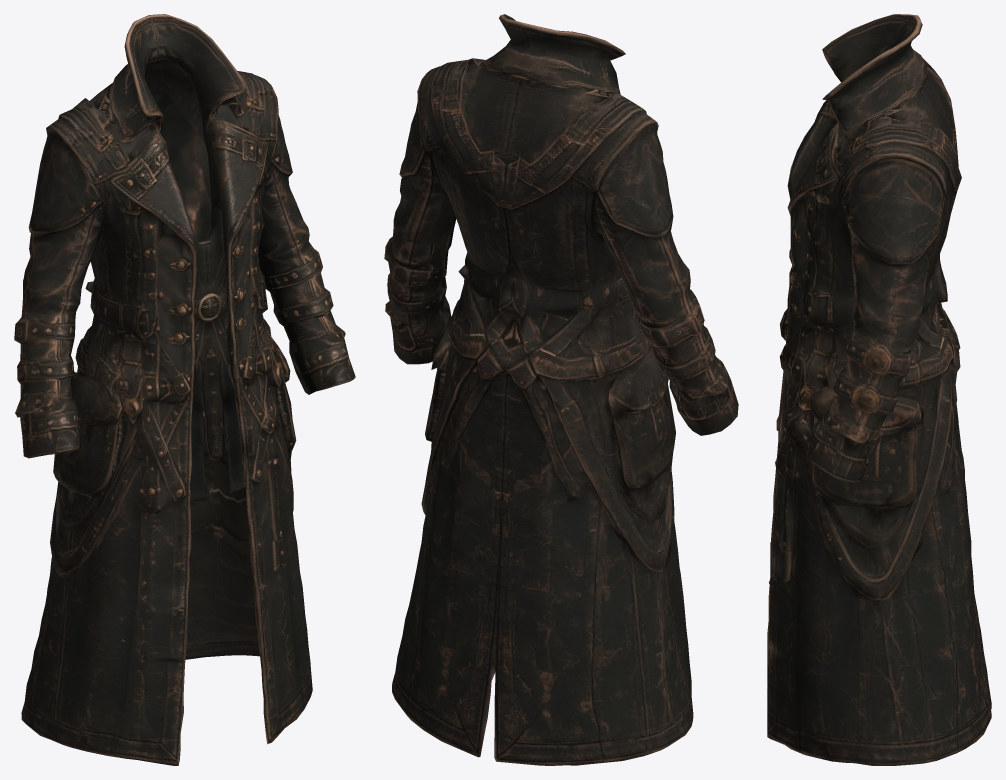
Rendered from player_coat.glb.
3 views of the same model, side by side, from view 1: azimuth 30°, elevation 25°; view 2: azimuth 150°, elevation 25°; view 3: azimuth 270°, elevation 25° (orthographic). The views are drawn at different scales.
Visible parts, largest first — view 1: mesh_node; view 2: mesh_node; view 3: mesh_node.
Part boxes in pixels (box(x1,y1,x2,y2)): mesh_node: box(14, 14, 355, 765); mesh_node: box(384, 14, 738, 765); mesh_node: box(767, 14, 991, 765).
Bounding box in the file's own units: 0.8552 × 1.7 × 0.4992.
1 material, 1 textured.
